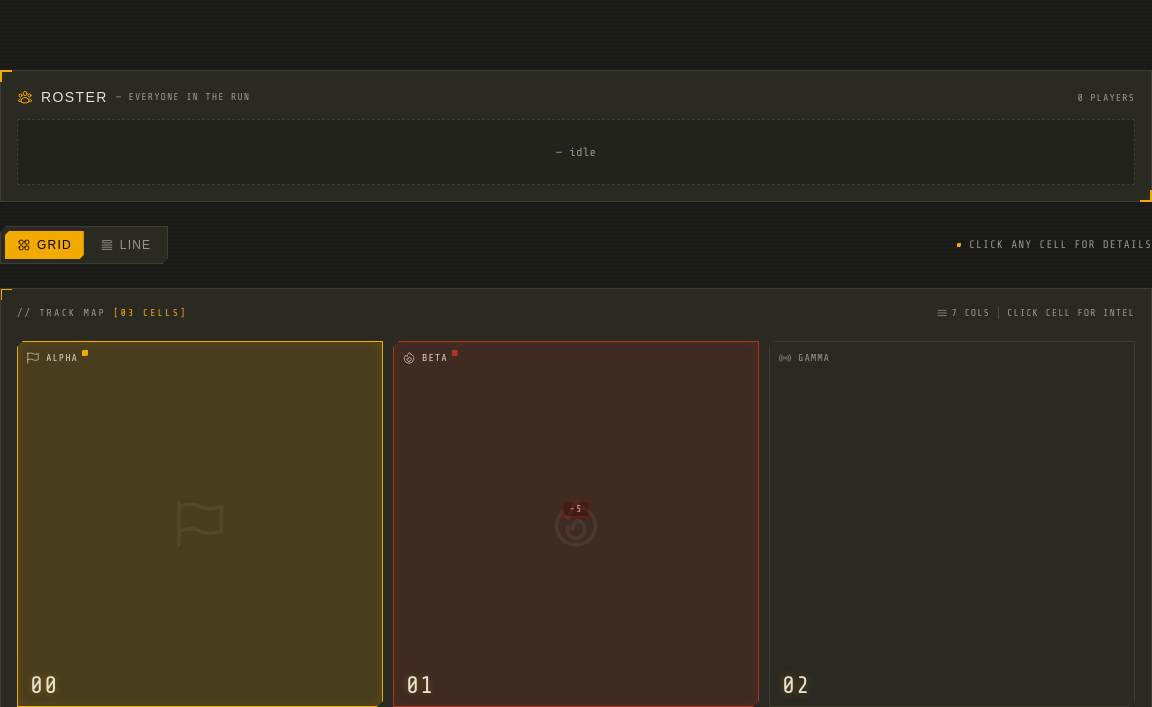
it: BoardView cell details › closes the modal with Escape
Click the button "Gamma 02": [814, 358] box [769,341,1135,706]
(page scrolled)
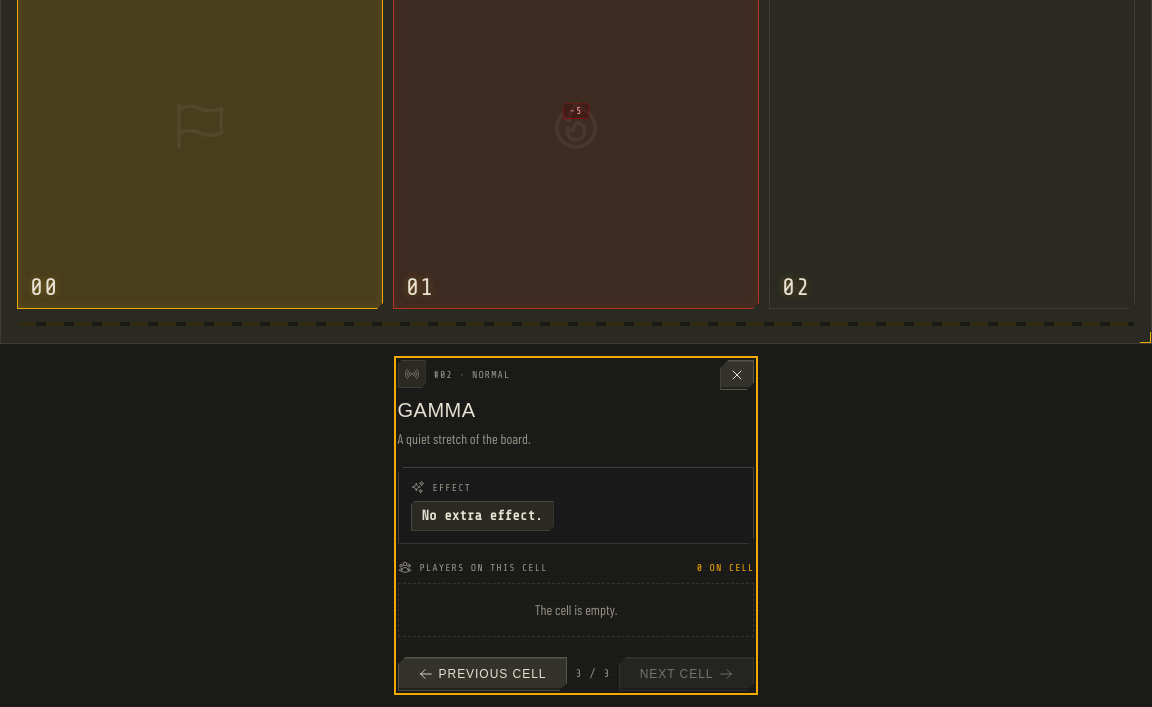
Press Escape
(page scrolled)
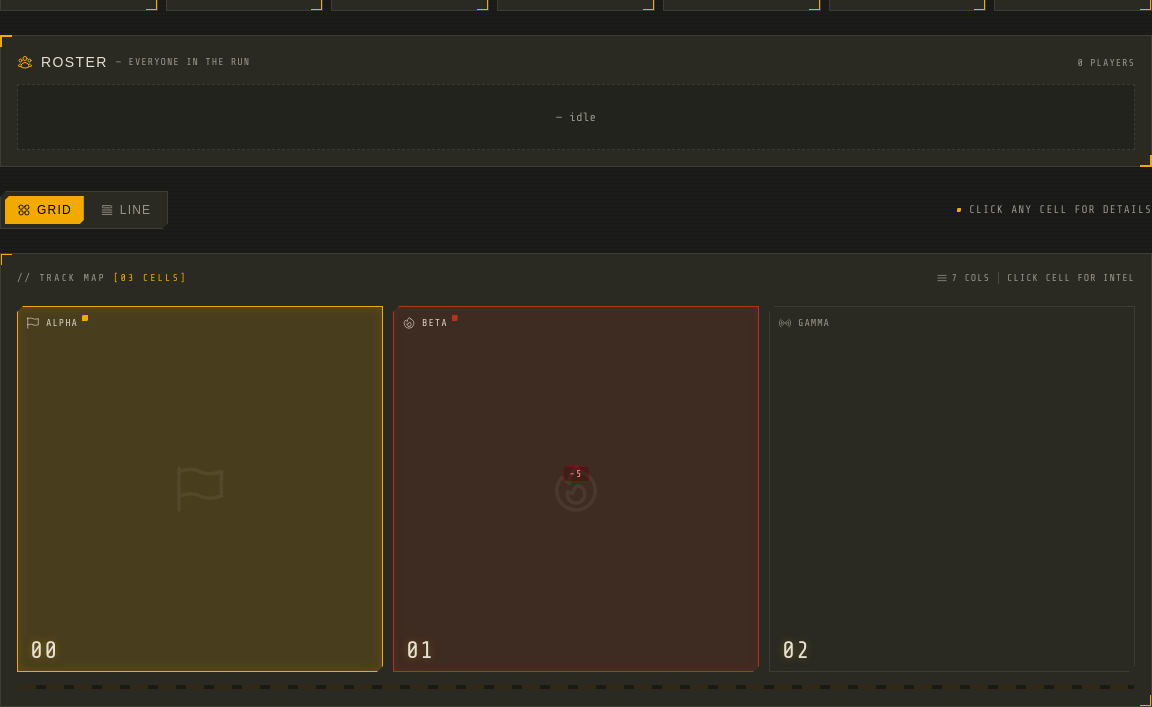
Now the dialog is gone
